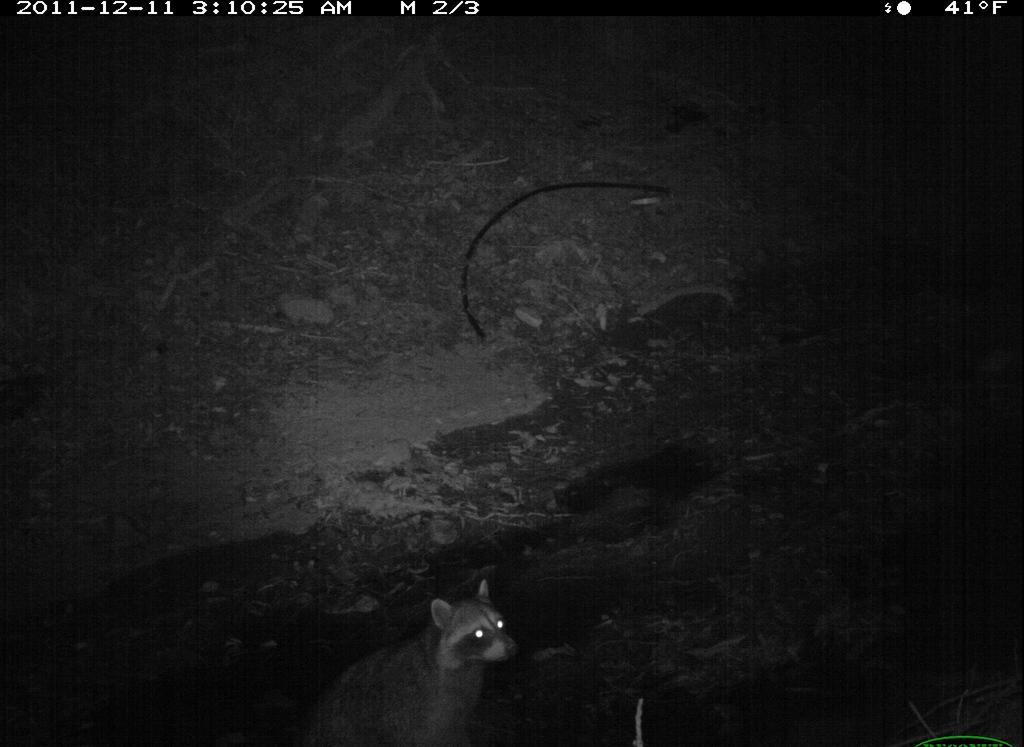raccoon: (305, 569, 542, 744)
